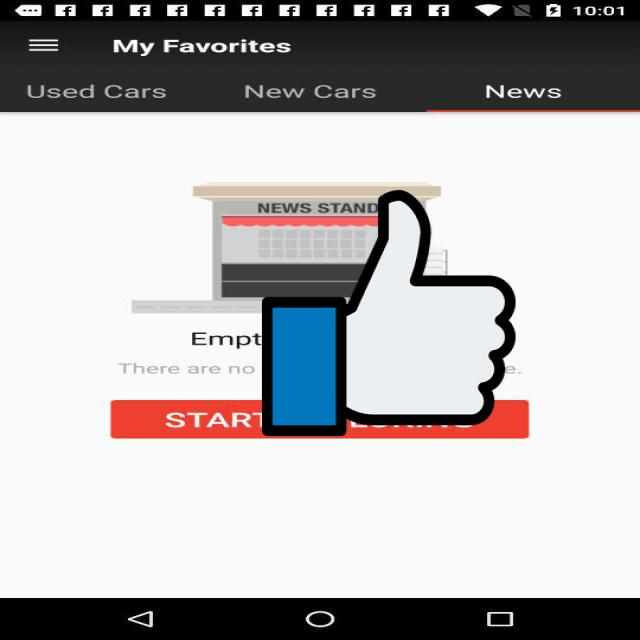privacy zuckering: (262, 185, 515, 441)
